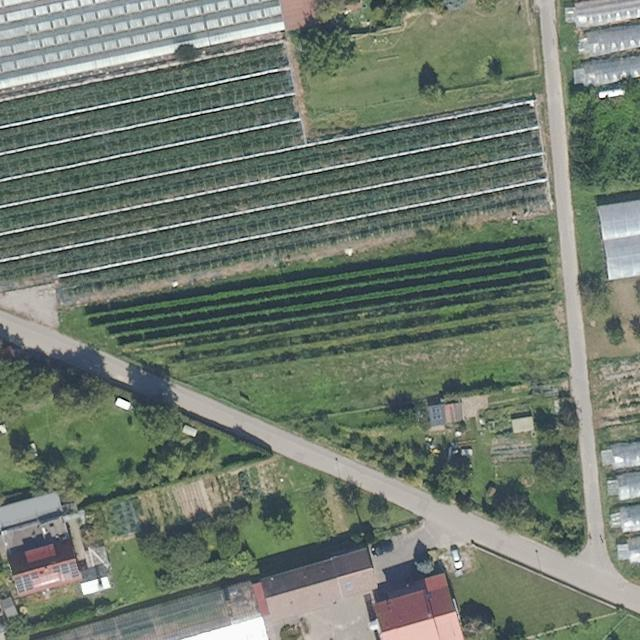PV: (14, 570, 40, 595), (52, 560, 81, 578), (431, 407, 441, 420)
